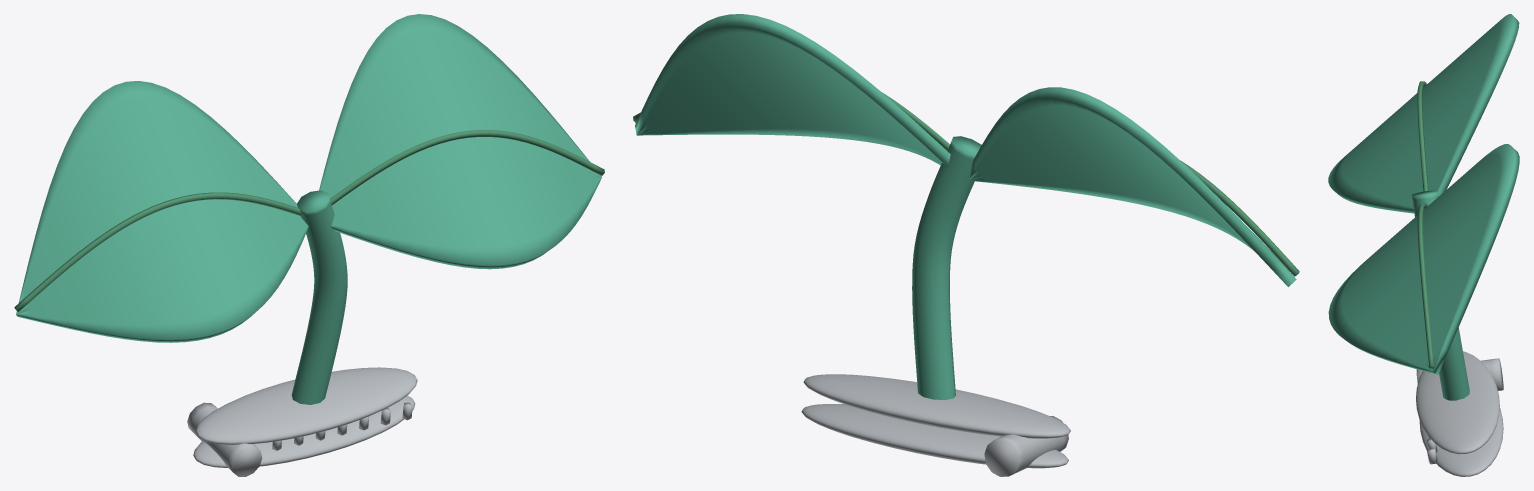
Rendered from Masculine-middle-part-none260-sprout.glb.
The picture shows the model from 3 angles, left to right: view 1: azimuth 30°, elevation 25°; view 2: azimuth 150°, elevation 25°; view 3: azimuth 270°, elevation 25°; orthographic projection. The views are drawn at different scales.
Parts seen in each view (by area): view 1: 226 extra / Accessory / mint226, 226 extra / Sprout / clip silver235, 226 extra / Sprout / leaf vein235; view 2: 226 extra / Accessory / mint226, 226 extra / Sprout / clip silver235, 226 extra / Sprout / leaf vein235; view 3: 226 extra / Accessory / mint226, 226 extra / Sprout / clip silver235, 226 extra / Sprout / leaf vein235.
Boxes of the visible parts, x1,y1,x2,y2 form: 226 extra / Accessory / mint226: (16,14,601,404); 226 extra / Sprout / clip silver235: (187,367,417,476); 226 extra / Sprout / leaf vein235: (14,130,604,312); 226 extra / Accessory / mint226: (635,14,1296,399); 226 extra / Sprout / clip silver235: (801,374,1070,476); 226 extra / Sprout / leaf vein235: (633,92,1299,276); 226 extra / Accessory / mint226: (1328,14,1519,400); 226 extra / Sprout / clip silver235: (1416,351,1503,476); 226 extra / Sprout / leaf vein235: (1417,81,1434,369).
Bounding box in the file's own units: 0.2716 × 0.1654 × 0.0826.
